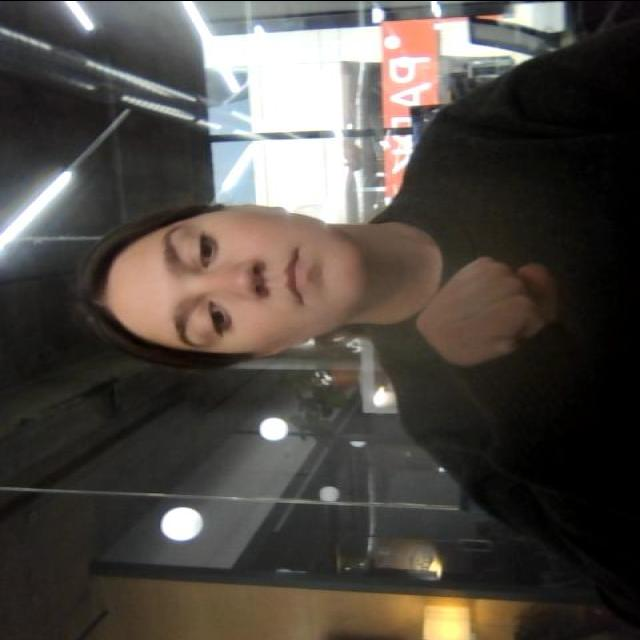Rock: (412, 255, 558, 387)
